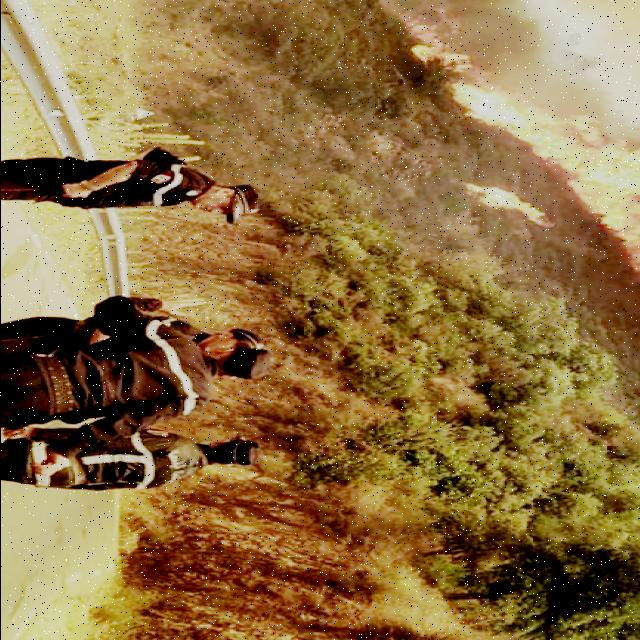api: (555, 88, 607, 197), (461, 80, 541, 148), (614, 131, 640, 267), (474, 185, 548, 218), (413, 28, 467, 70)
